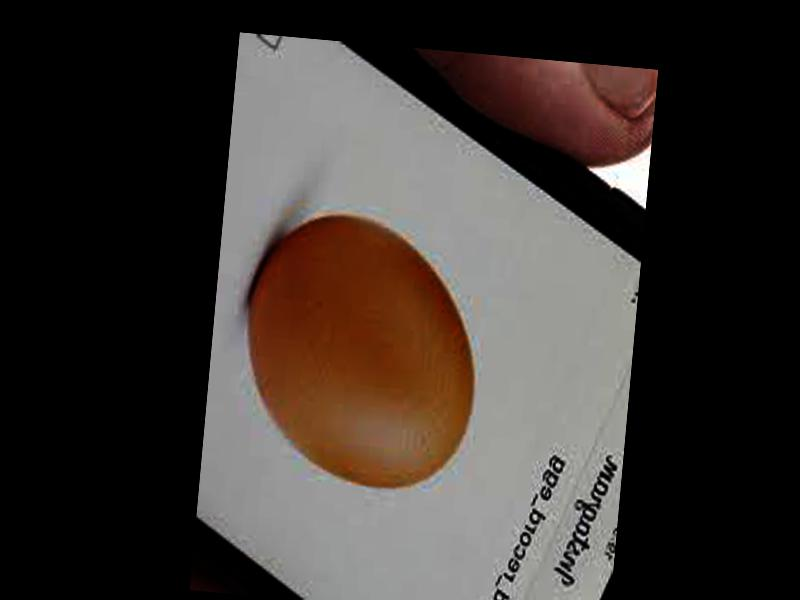Eggs: (235, 208, 487, 494)
